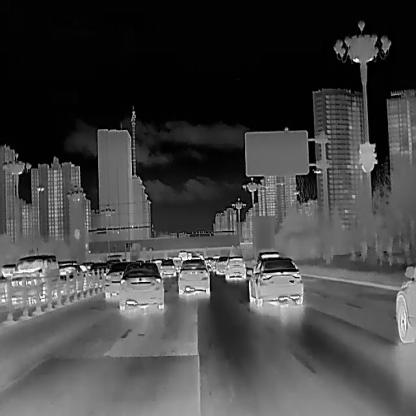car: (248, 256, 304, 306), (11, 254, 61, 301), (119, 262, 164, 310), (394, 263, 416, 342), (177, 258, 209, 294), (53, 259, 83, 292), (104, 262, 125, 300), (88, 260, 110, 290), (224, 255, 244, 280), (214, 254, 228, 275), (159, 256, 175, 274)
truck: (177, 249, 186, 258)
